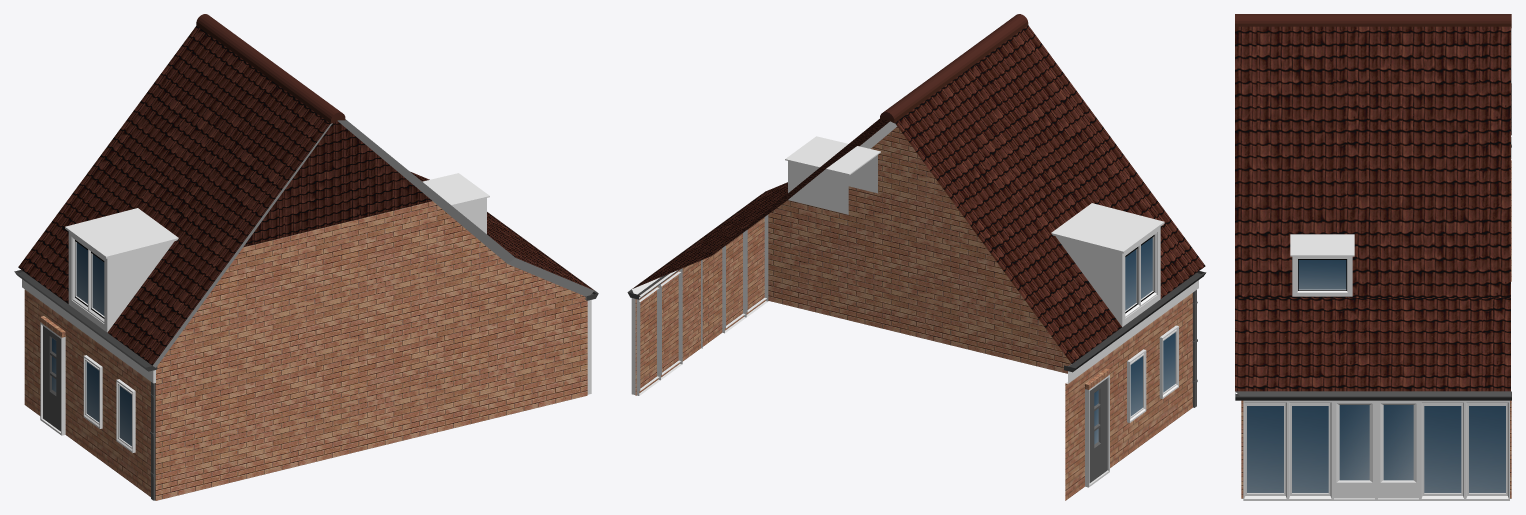
File: Buorkerij_47.fbx
3 views of the same model, side by side, from view 1: azimuth 30°, elevation 25°; view 2: azimuth 150°, elevation 25°; view 3: azimuth 270°, elevation 25° (orthographic). The views are drawn at different scales.
Parts seen in each view (by area): view 1: Buorkerij_47; view 2: Buorkerij_47; view 3: Buorkerij_47.
Part boxes in pixels (bbox=[...]): Buorkerij_47: bbox=[14, 14, 598, 500]; Buorkerij_47: bbox=[627, 14, 1206, 500]; Buorkerij_47: bbox=[1235, 14, 1511, 500].
Bounding box in the file's own units: 11.47 × 8.45 × 5.94.
